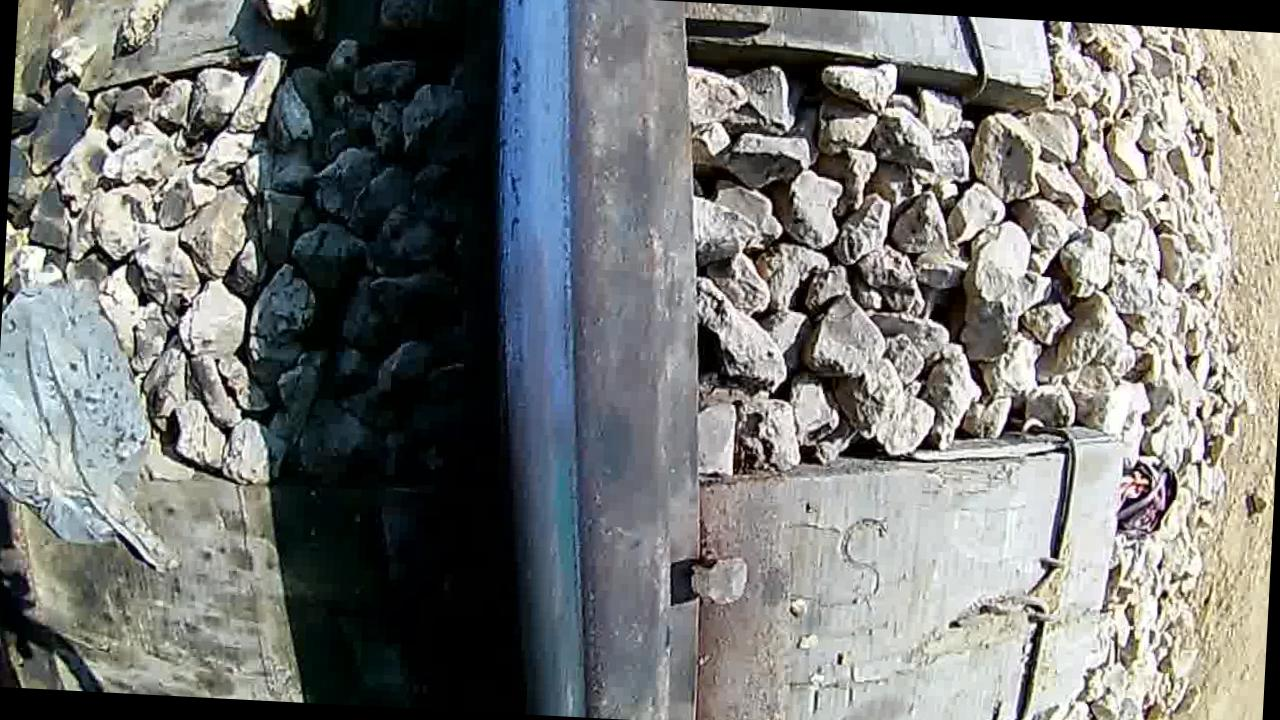crack: (464, 0, 681, 720)
